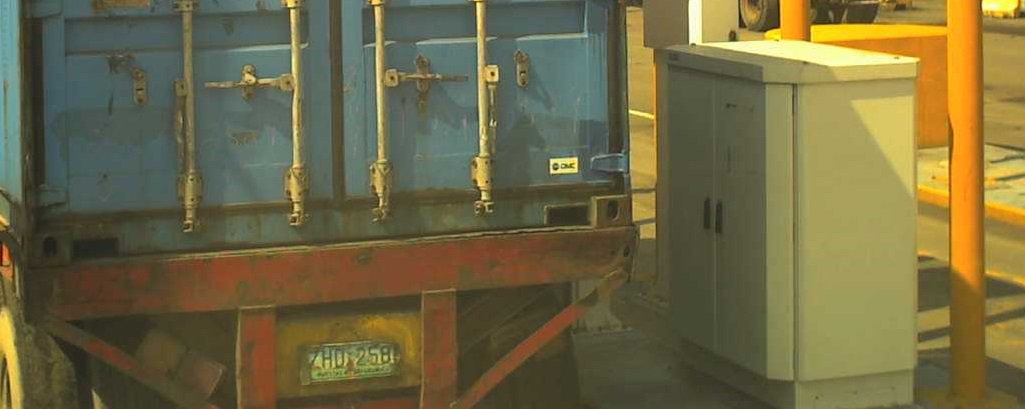container_door: (29, 4, 633, 266)
